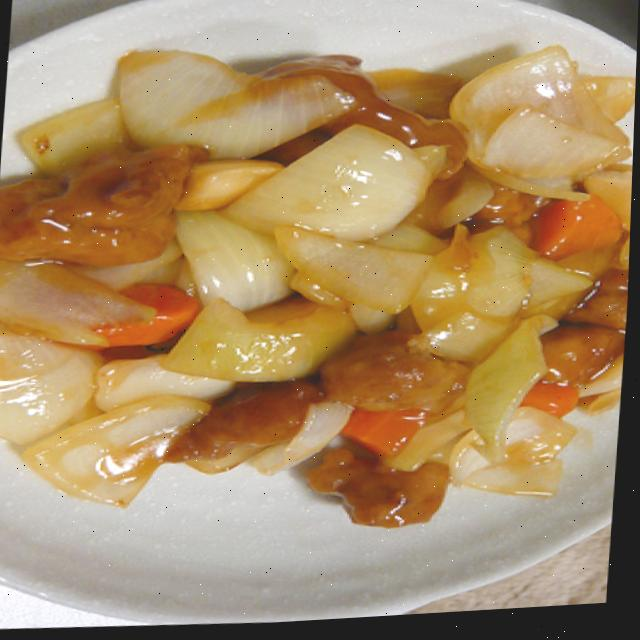猪肉菜式: (0, 18, 639, 564)
